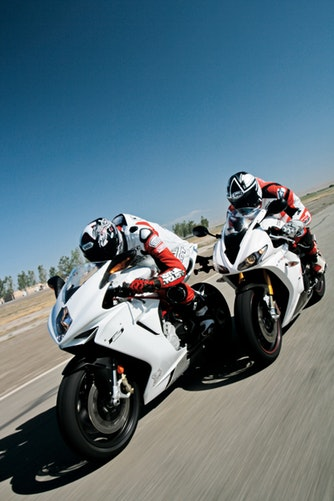helmet: (76, 219, 128, 265), (221, 174, 261, 208)
